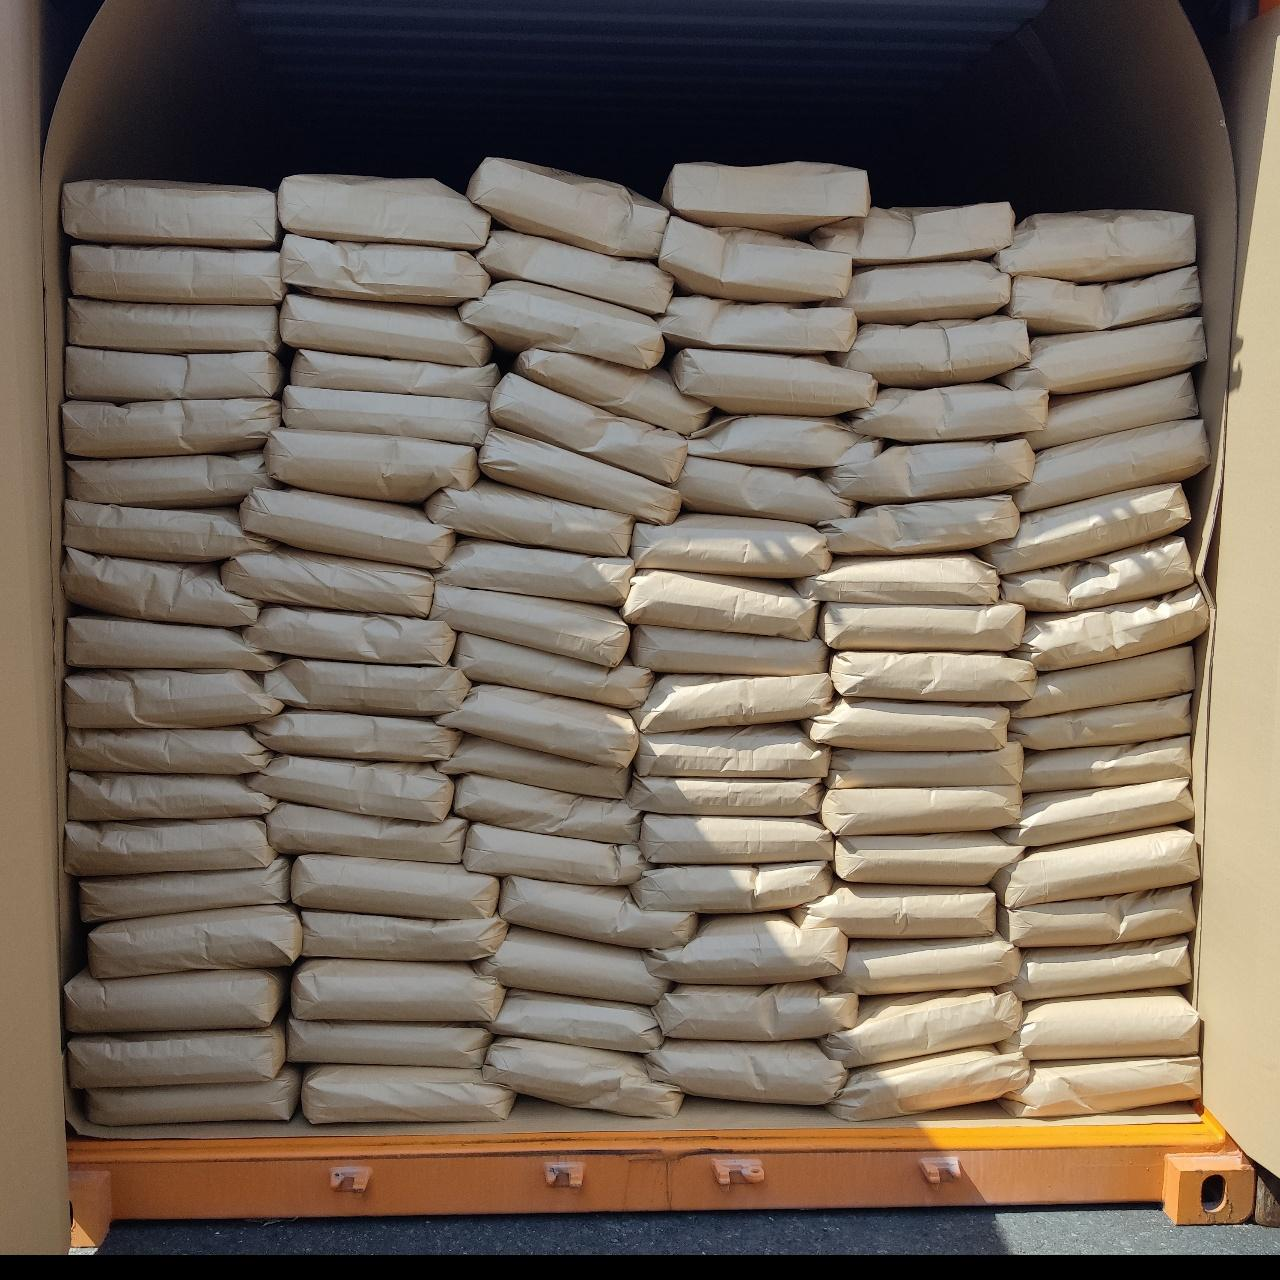sack: (491, 374, 686, 483), (468, 158, 668, 257), (981, 483, 1188, 574), (479, 428, 680, 521), (460, 281, 663, 369), (239, 489, 454, 569), (1018, 421, 1209, 511), (989, 827, 1198, 908), (659, 214, 851, 302), (514, 348, 710, 434), (432, 581, 628, 666), (1019, 584, 1207, 672), (479, 230, 672, 314), (277, 175, 488, 251), (438, 687, 638, 767), (1000, 317, 1205, 394), (265, 428, 478, 502), (483, 1036, 680, 1116), (426, 479, 633, 555), (61, 547, 259, 626), (821, 990, 1021, 1068), (89, 906, 301, 978), (661, 162, 869, 235), (280, 294, 489, 366), (472, 927, 666, 1004), (280, 234, 490, 305), (222, 547, 433, 617), (1002, 535, 1193, 612), (830, 1046, 1028, 1120), (455, 634, 652, 708), (996, 210, 1194, 282), (644, 913, 847, 983), (63, 180, 275, 247), (501, 877, 699, 948), (69, 1022, 285, 1087), (66, 969, 287, 1032), (670, 349, 877, 415), (621, 570, 818, 639), (825, 439, 1034, 504), (1000, 991, 1198, 1059), (245, 756, 452, 821), (81, 857, 290, 921), (1029, 372, 1197, 451), (436, 539, 634, 606), (1005, 265, 1200, 333), (840, 317, 1029, 387), (1010, 645, 1193, 717), (292, 959, 504, 1021), (645, 1038, 847, 1103), (999, 778, 1192, 846), (809, 202, 1014, 266), (291, 856, 499, 919), (69, 245, 284, 305), (63, 399, 280, 458), (66, 669, 283, 728), (87, 1065, 301, 1124), (630, 514, 830, 577), (455, 774, 639, 842), (283, 385, 490, 445), (64, 501, 267, 562), (242, 606, 455, 664), (653, 981, 858, 1041), (302, 1064, 514, 1122), (676, 456, 855, 524), (632, 673, 833, 733), (65, 818, 276, 875), (997, 887, 1194, 948), (1005, 1056, 1200, 1117), (437, 736, 628, 798), (67, 615, 278, 671), (267, 803, 467, 862), (819, 495, 1019, 554), (67, 452, 276, 508), (68, 298, 280, 353), (850, 383, 1047, 442), (829, 260, 1010, 324), (1009, 936, 1190, 1000), (266, 658, 469, 715), (66, 346, 283, 399), (792, 882, 995, 938), (657, 296, 856, 353), (462, 824, 647, 885), (802, 698, 1009, 751), (839, 935, 1020, 994), (290, 350, 499, 401), (287, 1016, 491, 1068), (252, 710, 459, 761), (491, 991, 662, 1052), (632, 861, 831, 913), (634, 724, 829, 777), (821, 784, 1022, 835), (831, 651, 1035, 701), (832, 831, 1023, 884), (798, 554, 999, 604), (819, 602, 1024, 651), (628, 625, 828, 675), (302, 911, 506, 960), (1009, 695, 1190, 750), (688, 417, 883, 468), (66, 727, 271, 775), (1020, 736, 1190, 793), (69, 772, 275, 819), (640, 814, 832, 863), (826, 742, 1023, 788), (627, 776, 823, 816)
